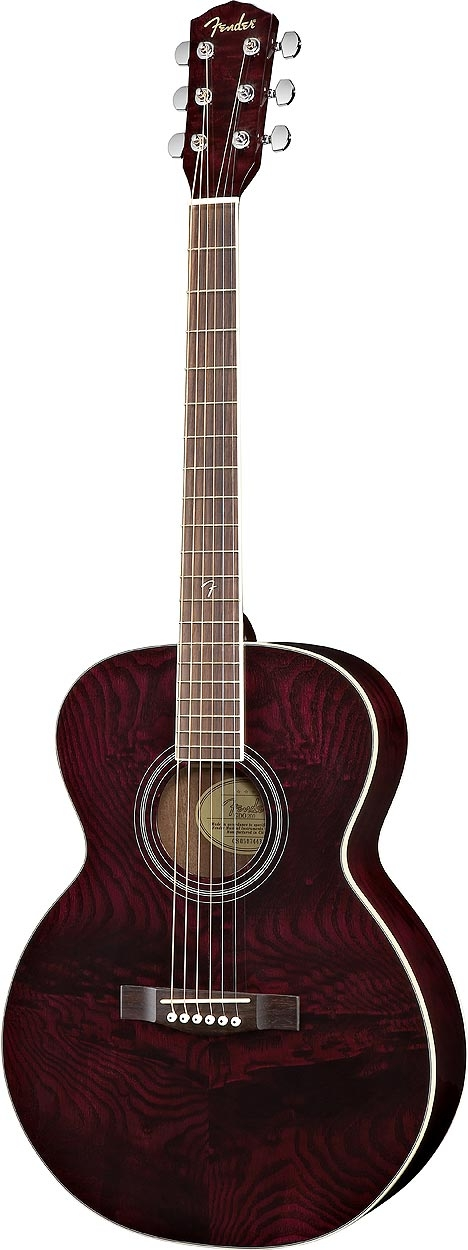guitar: (1, 1, 468, 1250)
